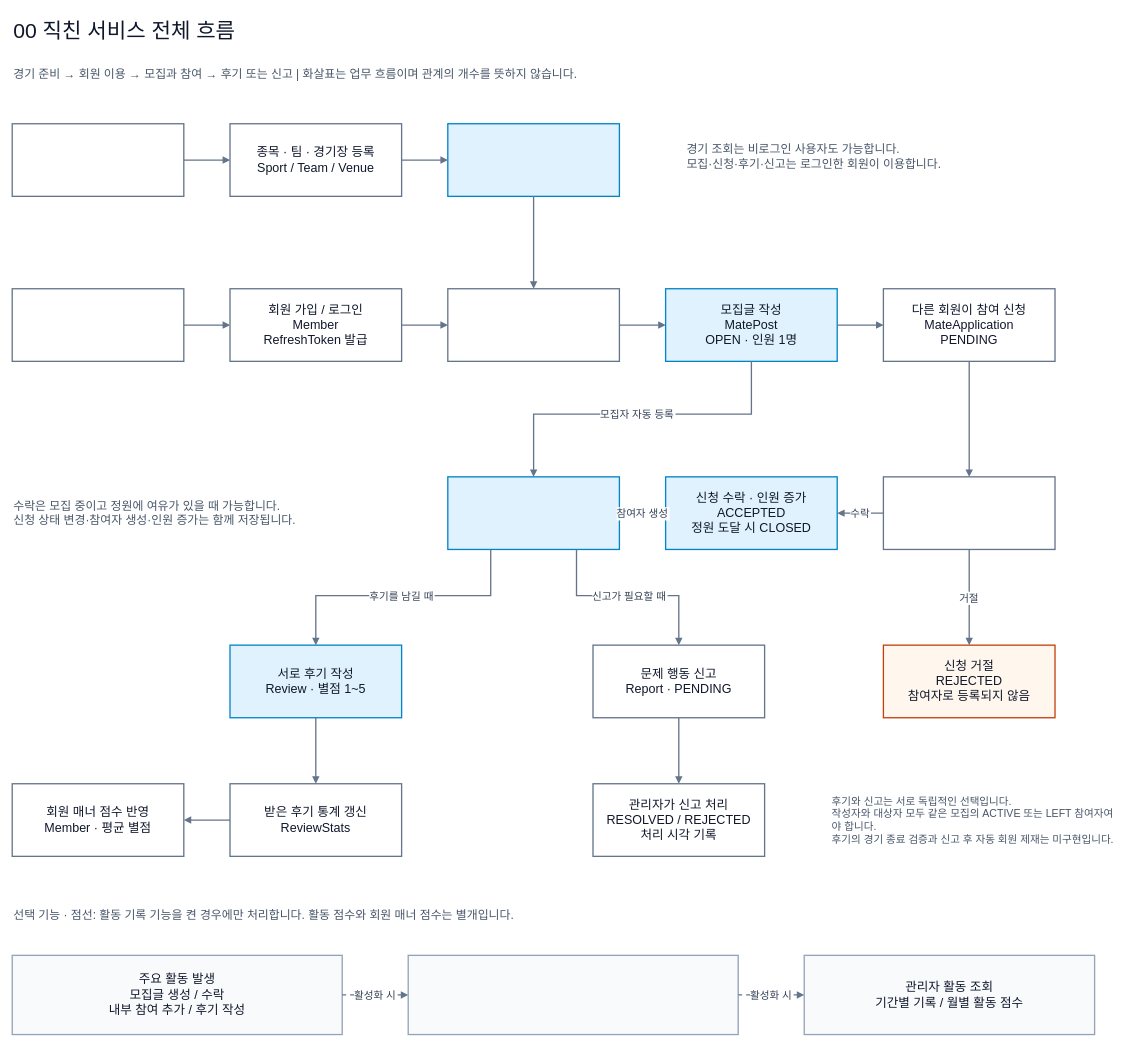
Image size: 1132x1046. Some labels were removed from this diagram. Here are the shapes that lost their labels. From the top down, the box of each, then its label:
(11, 123, 184, 197): 관리자 Member · ROLE_ADMIN
(447, 123, 620, 197): 경기 일정 등록 Event
(11, 288, 184, 362): 서비스 이용자
(447, 288, 620, 362): 경기 조회 · 선택 Event
(447, 476, 620, 550): 활성 참여자 MateMember · ACTIVE
(882, 476, 1055, 550): 모집자가 신청 검토 본인 글 · 대기 신청 확인
(407, 954, 739, 1035): 경기 활동 로그 저장 event_activity_logs 업무 저장과 함께 성공 또는 취소
